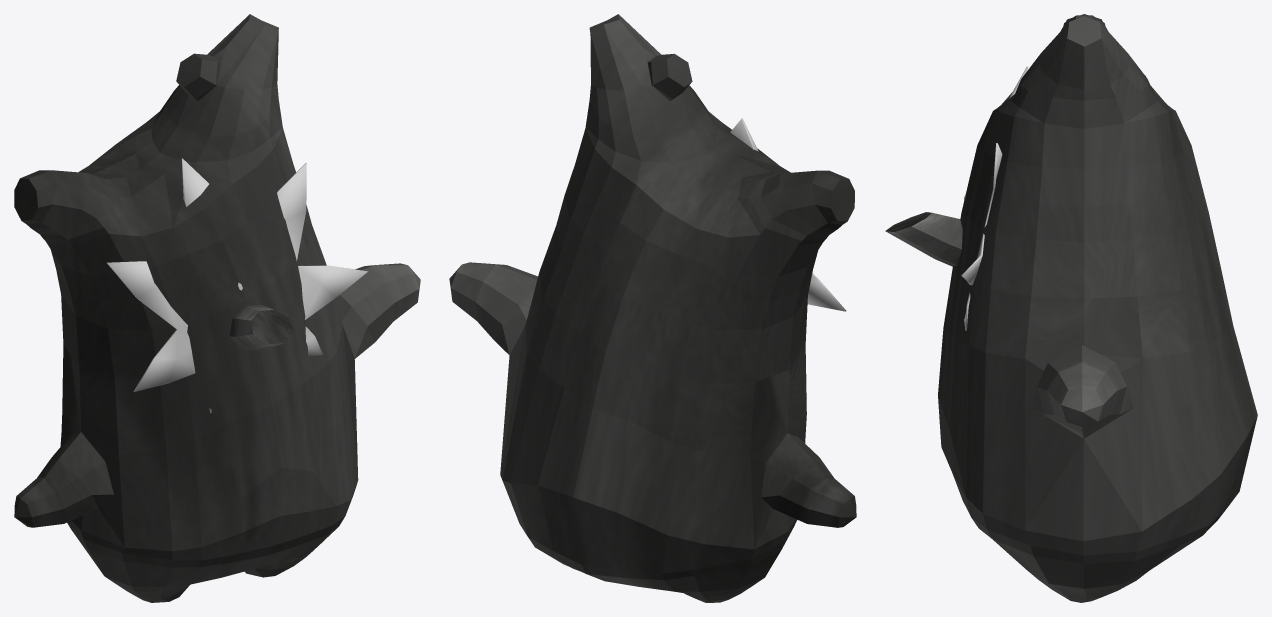
Rendered from frame_0009.obj.
The picture shows the model from 3 angles, left to right: view 1: azimuth 30°, elevation 25°; view 2: azimuth 150°, elevation 25°; view 3: azimuth 270°, elevation 25°; orthographic projection. The views are drawn at different scales.
Visible parts, largest first — view 1: korok, leaf, nose; view 2: korok, leaf; view 3: korok, nose, leaf.
Part boxes in pixels (x1=…): korok: x1=14, y1=14, x2=420, y2=602; leaf: x1=106, y1=158, x2=367, y2=413; nose: x1=229, y1=305, x2=294, y2=349; korok: x1=449, y1=14, x2=856, y2=602; leaf: x1=730, y1=118, x2=846, y2=311; korok: x1=938, y1=14, x2=1257, y2=602; nose: x1=885, y1=212, x2=962, y2=266; leaf: x1=961, y1=66, x2=1028, y2=330.
Bounding box in the file's own units: 1.77 × 2.32 × 1.36.
